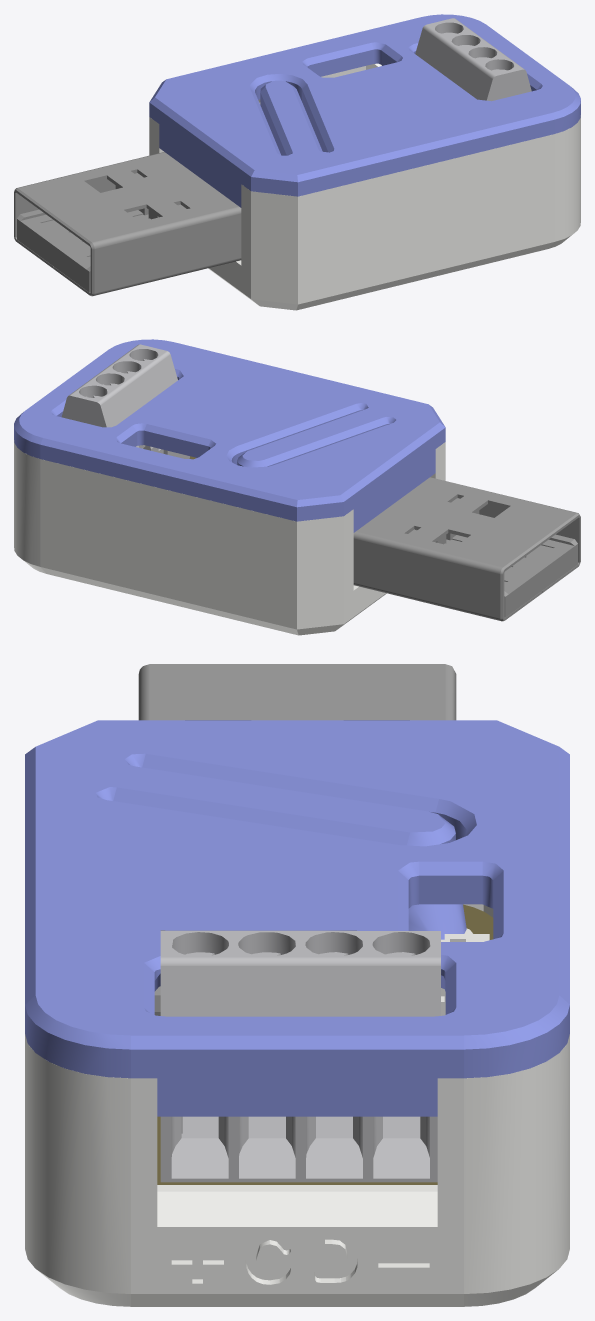
File: ada-5998.glb
3 renders of one model, top to bottom at view 1: azimuth 30°, elevation 25°; view 2: azimuth 150°, elevation 25°; view 3: azimuth 270°, elevation 25°, orthographic. The views are drawn at different scales.
Parts seen in each view (by area): view 1: 0.25_0.3333333333333333_0.8333333333333334_0, 0.9166666666666666_0.9166666666666666_0.9166666666666666_0.8, 0.3333333333333333_0.3333333333333333_0.3333333333333333_0, 0.5833333333333334_0.5833333333333334_0.5833333333333334_0.8; view 2: 0.25_0.3333333333333333_0.8333333333333334_0, 0.9166666666666666_0.9166666666666666_0.9166666666666666_0.8, 0.3333333333333333_0.3333333333333333_0.3333333333333333_0, 0.5833333333333334_0.5833333333333334_0.5833333333333334_0.8; view 3: 0.25_0.3333333333333333_0.8333333333333334_0, 0.9166666666666666_0.9166666666666666_0.9166666666666666_0.8, 0.5833333333333334_0.5833333333333334_0.5833333333333334_0.8, 0.3333333333333333_0.3333333333333333_0.3333333333333333_0, 0.16666666666666666_0.16666666666666666_0.08333333333333333_.
Part boxes in pixels (left/top/right/bottom): 0.25_0.3333333333333333_0.8333333333333334_0: left=149, top=14, right=580, bottom=207; 0.9166666666666666_0.9166666666666666_0.9166666666666666_0.8: left=149, top=63, right=580, bottom=310; 0.3333333333333333_0.3333333333333333_0.3333333333333333_0: left=14, top=152, right=241, bottom=296; 0.5833333333333334_0.5833333333333334_0.5833333333333334_0.8: left=415, top=18, right=531, bottom=101; 0.25_0.3333333333333333_0.8333333333333334_0: left=14, top=339, right=445, bottom=532; 0.9166666666666666_0.9166666666666666_0.9166666666666666_0.8: left=14, top=440, right=445, bottom=635; 0.3333333333333333_0.3333333333333333_0.3333333333333333_0: left=353, top=477, right=580, bottom=621; 0.5833333333333334_0.5833333333333334_0.5833333333333334_0.8: left=61, top=344, right=189, bottom=458; 0.25_0.3333333333333333_0.8333333333333334_0: left=25, top=720, right=569, bottom=1116; 0.9166666666666666_0.9166666666666666_0.9166666666666666_0.8: left=25, top=904, right=569, bottom=1306; 0.5833333333333334_0.5833333333333334_0.5833333333333334_0.8: left=160, top=930, right=440, bottom=1182; 0.3333333333333333_0.3333333333333333_0.3333333333333333_0: left=138, top=664, right=456, bottom=1015; 0.16666666666666666_0.16666666666666666_0.08333333333333333_: left=157, top=904, right=493, bottom=1184.
Bounding box in the file's own units: 4.19 × 1.33 × 2.06.
